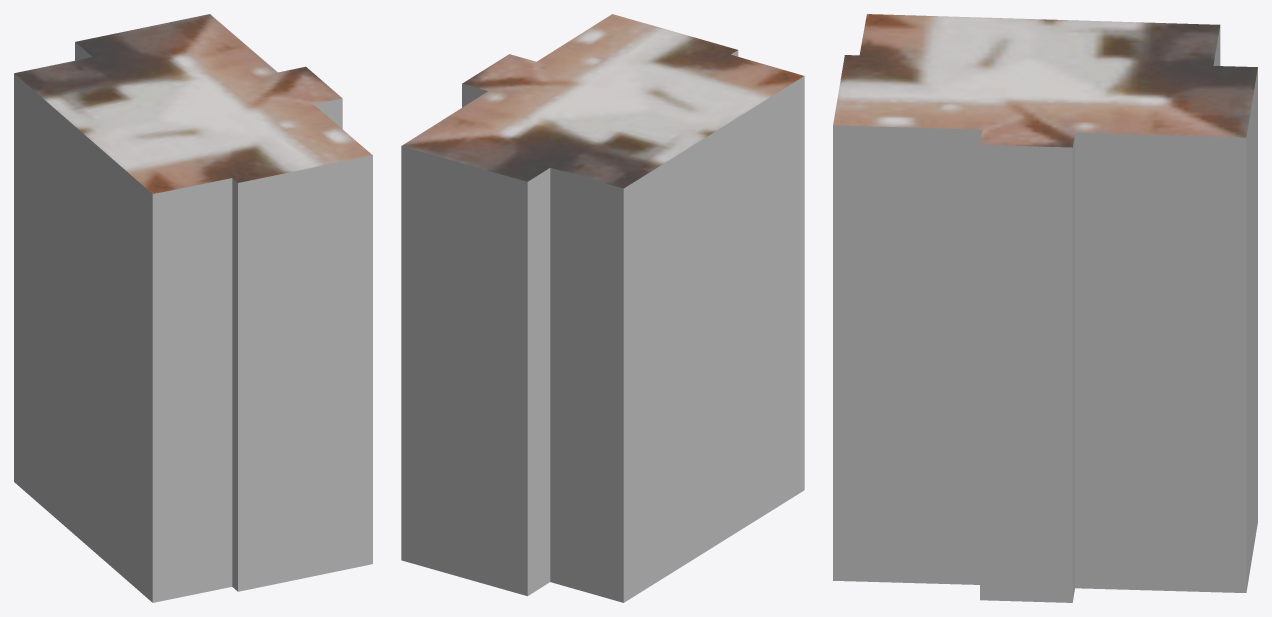
Rendered from DEBW_0010007Txgg.gltf.
The picture shows the model from 3 angles, left to right: view 1: azimuth 30°, elevation 25°; view 2: azimuth 150°, elevation 25°; view 3: azimuth 270°, elevation 25°; orthographic projection. The views are drawn at different scales.
Visible parts, largest first — view 1: Z_UP; view 2: Z_UP; view 3: Z_UP.
Part boxes in pixels (box(x1,y1,x2,y2)): Z_UP: box(14, 14, 372, 602); Z_UP: box(401, 14, 804, 602); Z_UP: box(833, 14, 1257, 602).
Bounding box in the file's own units: 10.73 × 17.07 × 14.43.
Materials: 2 (1 with a texture image).
